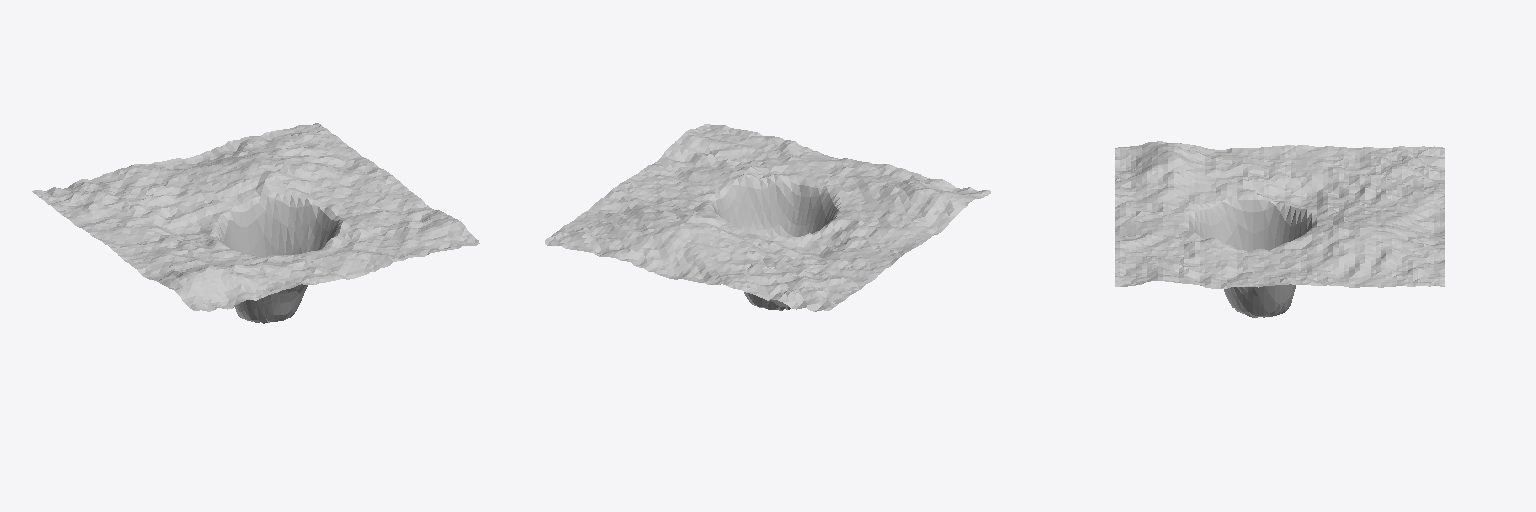
The model's file is landscape.obj.
3 views of the same model, side by side, from view 1: azimuth 30°, elevation 25°; view 2: azimuth 150°, elevation 25°; view 3: azimuth 270°, elevation 25° (orthographic).
Visible parts, largest first — view 1: Plane.001_Plane.002; view 2: Plane.001_Plane.002; view 3: Plane.001_Plane.002.
Part boxes in pixels (bbox=[...]): Plane.001_Plane.002: bbox=[32, 123, 479, 323]; Plane.001_Plane.002: bbox=[545, 124, 990, 311]; Plane.001_Plane.002: bbox=[1115, 141, 1444, 317].
Bounding box in the file's own units: 16 × 5.59 × 16.